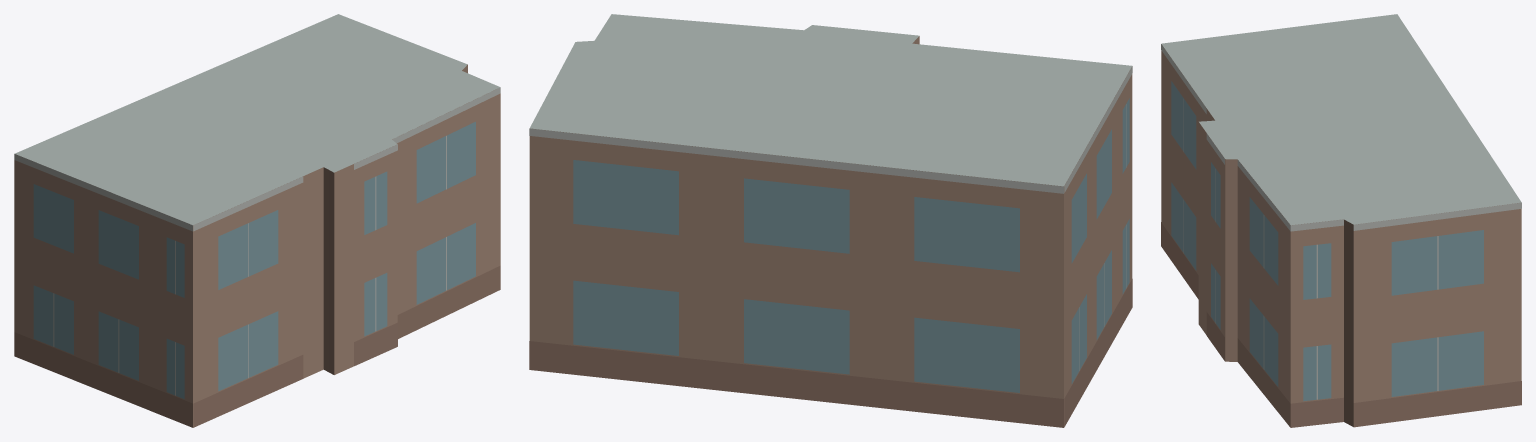
The model's file is survey-upis-32623845.glb.
The picture shows the model from 3 angles, left to right: view 1: azimuth 30°, elevation 25°; view 2: azimuth 150°, elevation 25°; view 3: azimuth 270°, elevation 25°; orthographic projection. The views are drawn at different scales.
Visible parts, largest first — view 1: survey-upis-32623845.tmp; view 2: survey-upis-32623845.tmp; view 3: survey-upis-32623845.tmp.
Boxes of the visible parts, x1=… form: survey-upis-32623845.tmp: x1=14, y1=14, x2=500, y2=427; survey-upis-32623845.tmp: x1=529, y1=14, x2=1132, y2=427; survey-upis-32623845.tmp: x1=1161, y1=14, x2=1521, y2=427.
Size of the model in its own units: 17.68 by 7.9 by 12.75.
